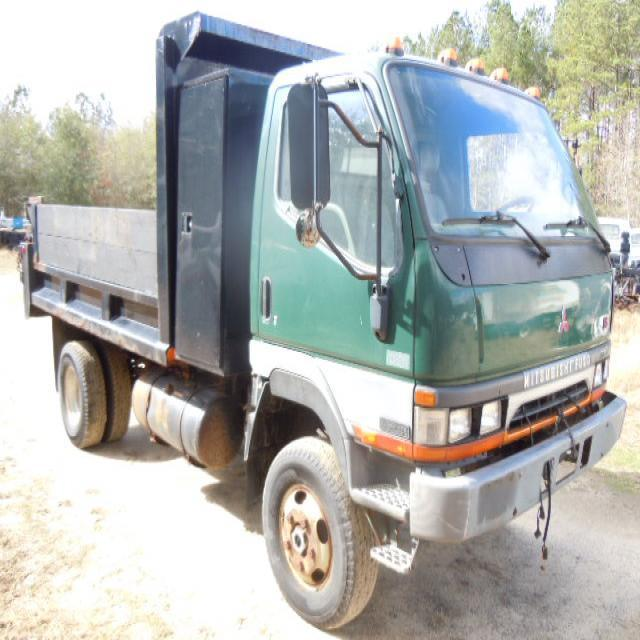truck: (16, 4, 627, 631)
